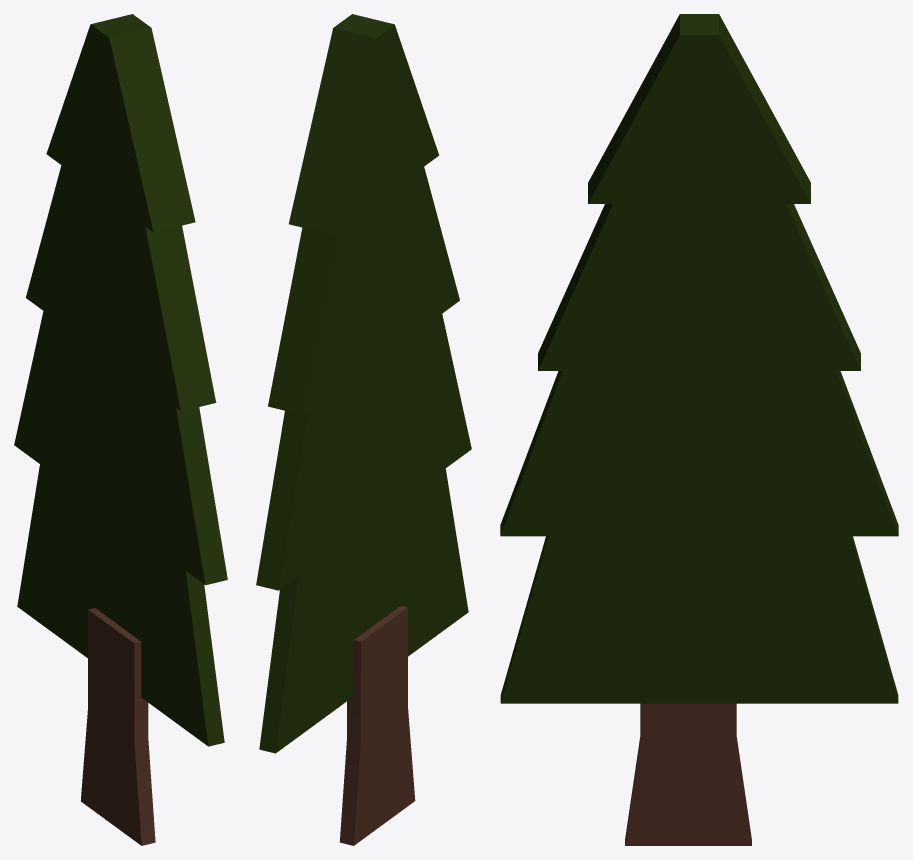
The model's file is Tree.fbx.
3 renders of one model, left to right at view 1: azimuth 30°, elevation 25°; view 2: azimuth 150°, elevation 25°; view 3: azimuth 270°, elevation 25°, orthographic. The views are drawn at different scales.
Visible parts, largest first — view 1: Tree; view 2: Tree; view 3: Tree.
Part boxes in pixels (x1,y1,x2,y2): Tree: (14,14,227,845); Tree: (256,14,471,845); Tree: (500,14,898,845).
Size of the model in its own units: 25.84 by 463 by 203.
